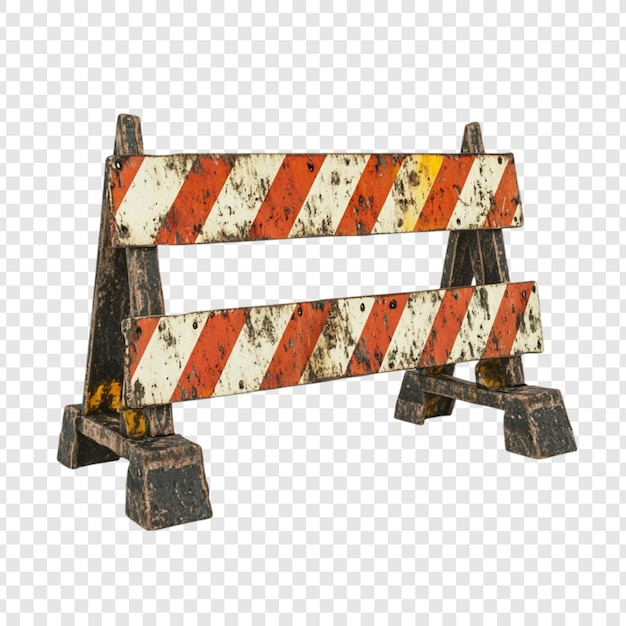Barrier: (47, 112, 592, 532)
